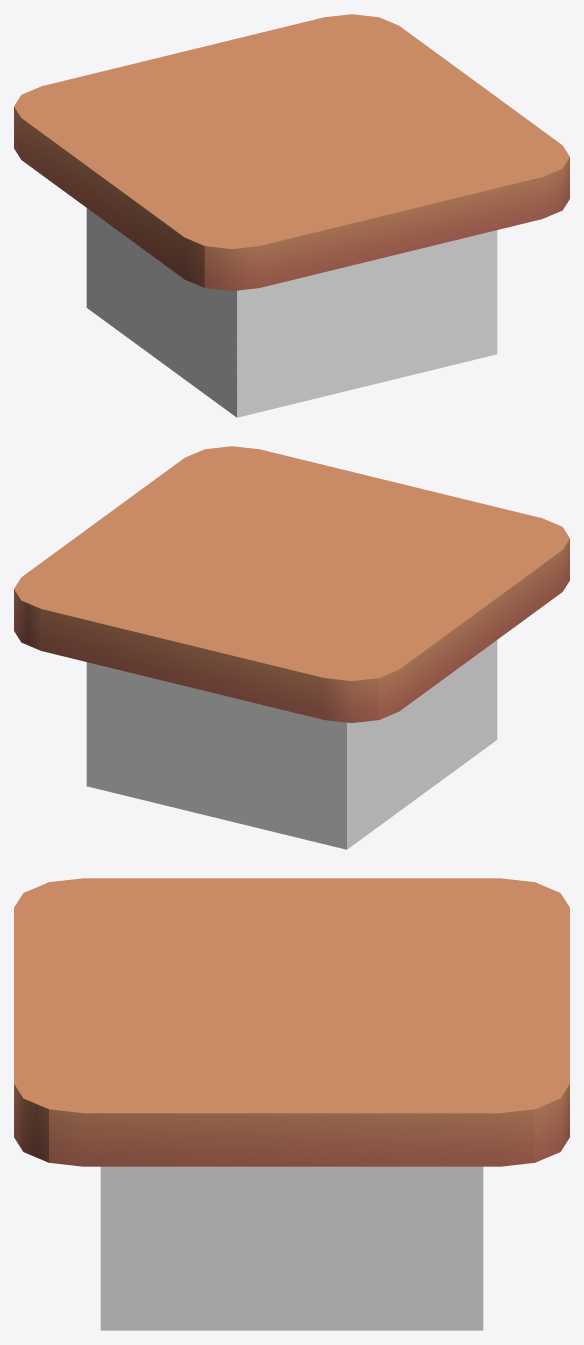
File: Pool_Cube.fbx
The picture shows the model from 3 angles, top to bottom: view 1: azimuth 30°, elevation 25°; view 2: azimuth 150°, elevation 25°; view 3: azimuth 270°, elevation 25°; orthographic projection. The views are drawn at different scales.
Visible parts, largest first — view 1: Pool_Cube; view 2: Pool_Cube; view 3: Pool_Cube.
Part boxes in pixels (box(x1,y1,x2,y2)): Pool_Cube: box(14, 14, 569, 417); Pool_Cube: box(14, 446, 569, 849); Pool_Cube: box(14, 878, 569, 1330).
Size of the model in its own units: 116 by 58.49 by 116.
